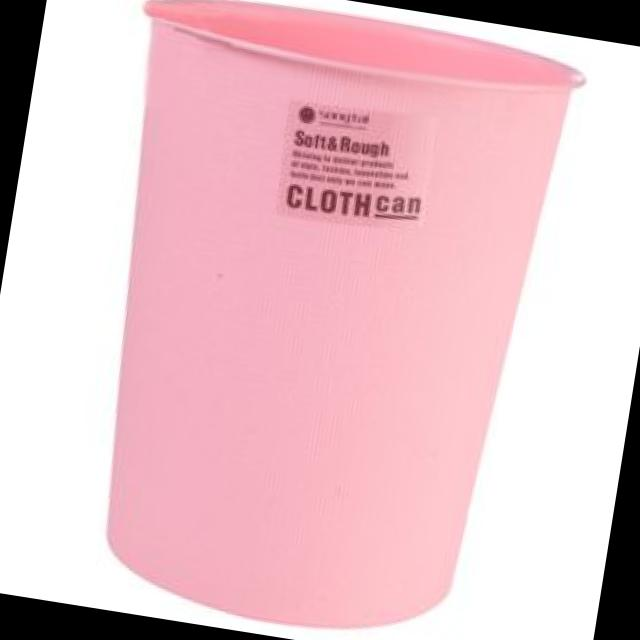dustbin: (49, 0, 594, 640)
